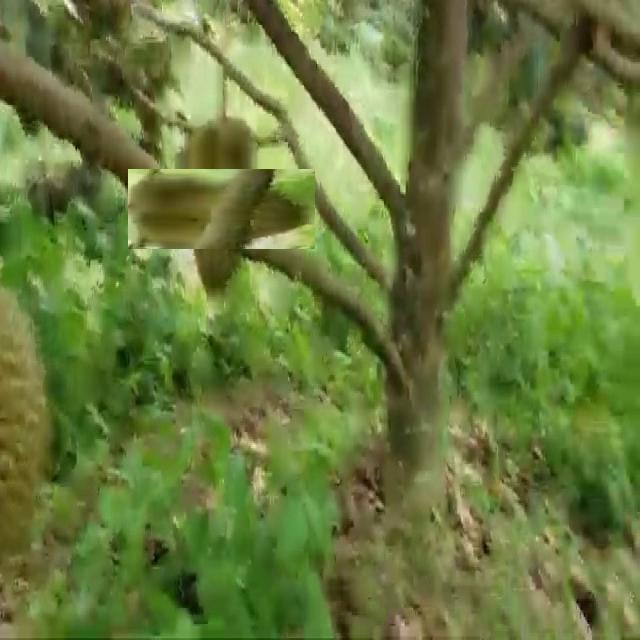durian: (155, 142, 289, 276), (1, 285, 50, 562)
